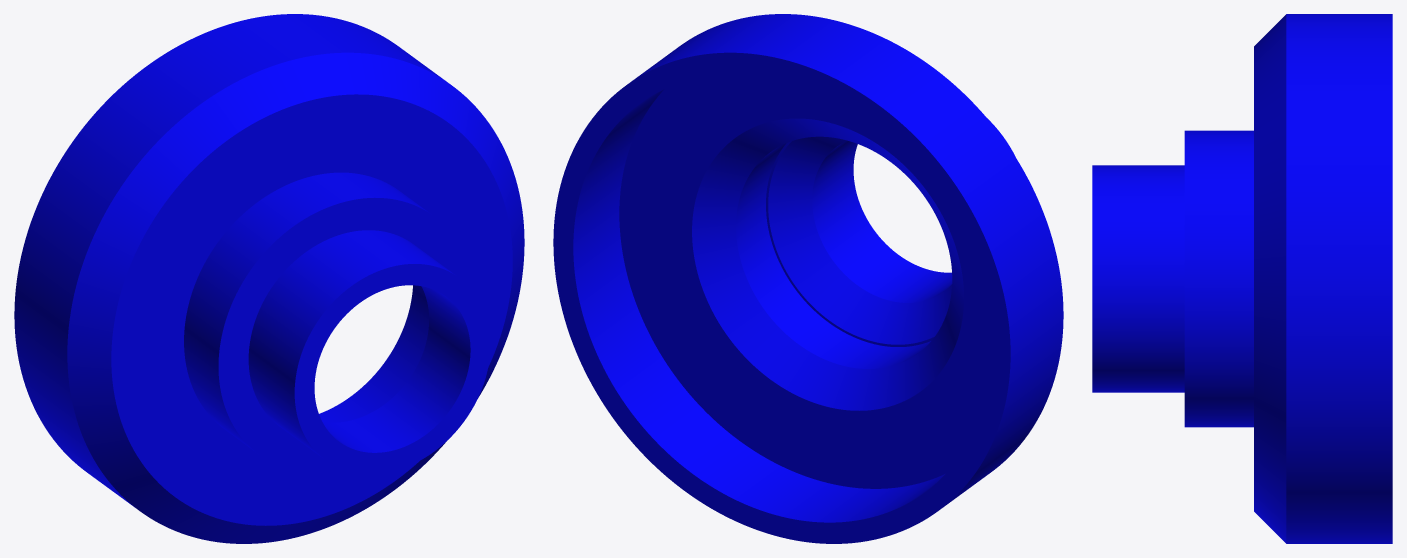
The model's file is Cube 1x1 V5_Filter Adapter (SM1).obj.
3 renders of one model, left to right at view 1: azimuth 30°, elevation 25°; view 2: azimuth 150°, elevation 25°; view 3: azimuth 270°, elevation 25°, orthographic.
Visible parts, largest first — view 1: Solid1:32; view 2: Solid1:32; view 3: Solid1:32.
Boxes of the visible parts, x1,y1,x2,y2 form: Solid1:32: [14, 14, 524, 543]; Solid1:32: [553, 14, 1063, 543]; Solid1:32: [1092, 14, 1392, 543].
Bounding box in the file's own units: 28.69 × 28.69 × 16.25.
